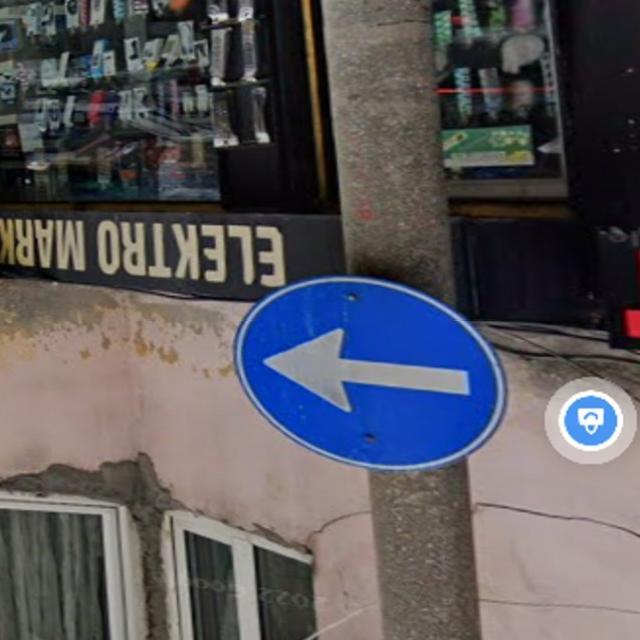Turn Left: (224, 269, 503, 474)
